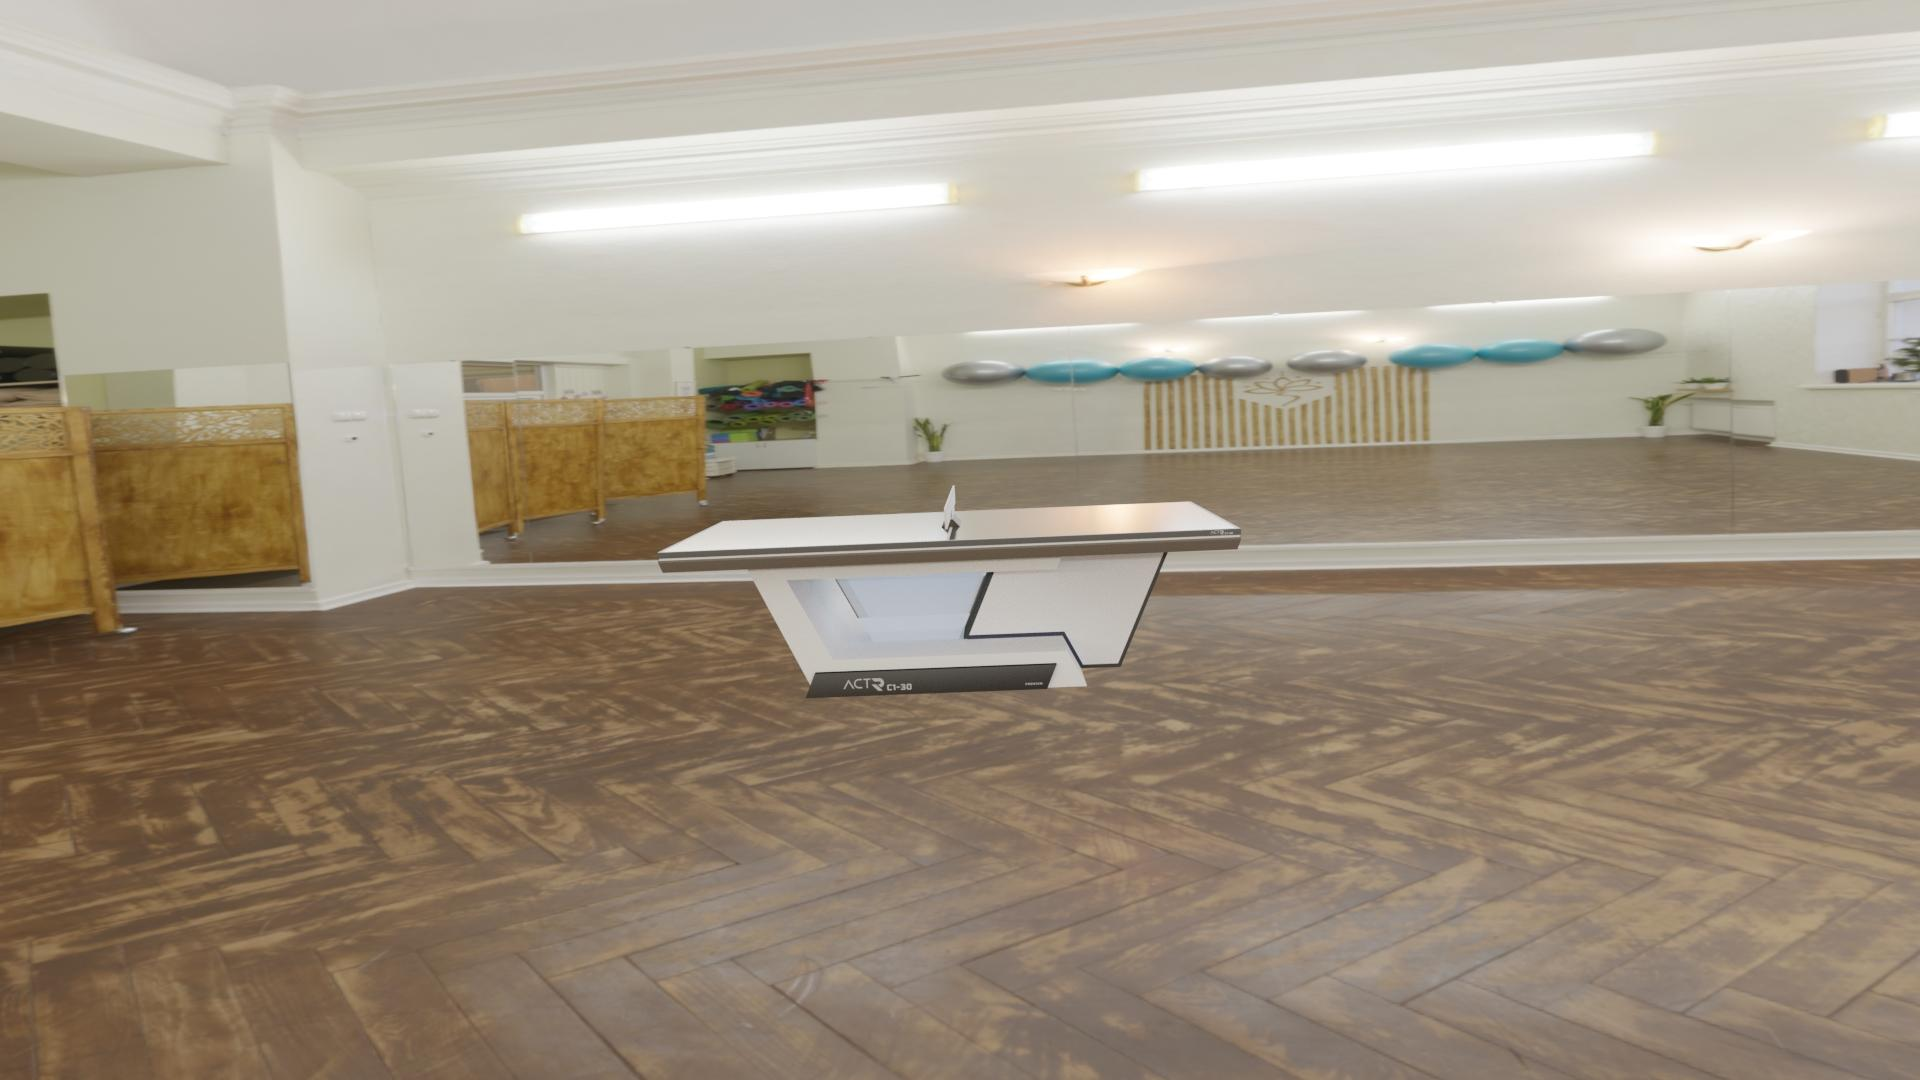table: (662, 502, 1236, 553)
